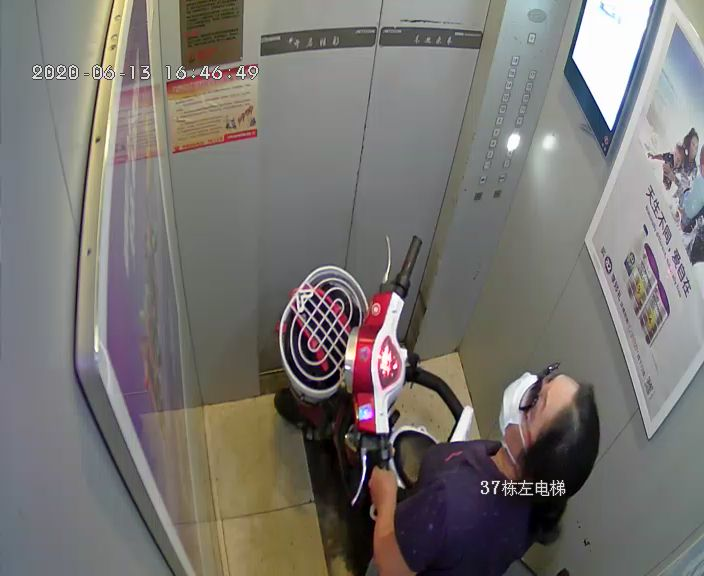Electric-bicycle: (277, 265, 453, 484)
